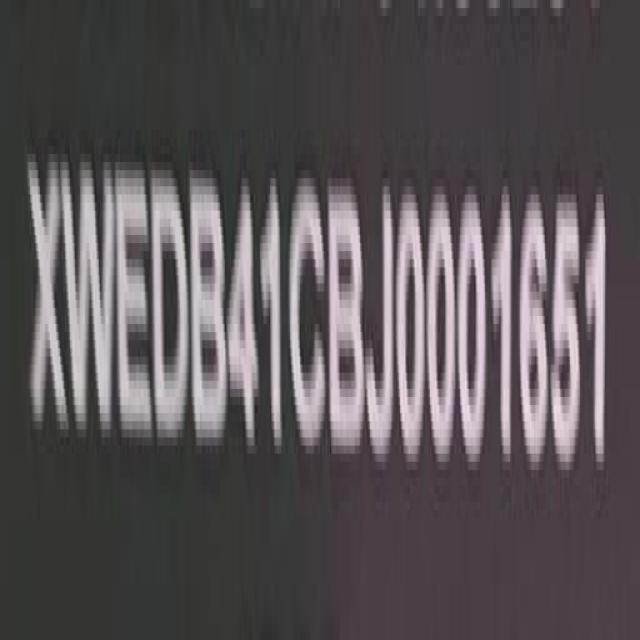0: (394, 195, 426, 465), (426, 189, 456, 471), (458, 189, 488, 465)
1: (258, 177, 286, 465), (584, 177, 610, 468), (493, 189, 513, 474)
4: (228, 186, 260, 462)
5: (550, 195, 582, 474)
6: (520, 177, 548, 474)
B: (191, 183, 229, 462), (326, 177, 363, 459)
C: (286, 171, 326, 450)
D: (152, 180, 191, 456)
E: (116, 165, 152, 462)
J: (367, 165, 394, 468)
W: (61, 150, 116, 450)
X: (29, 147, 69, 462)
